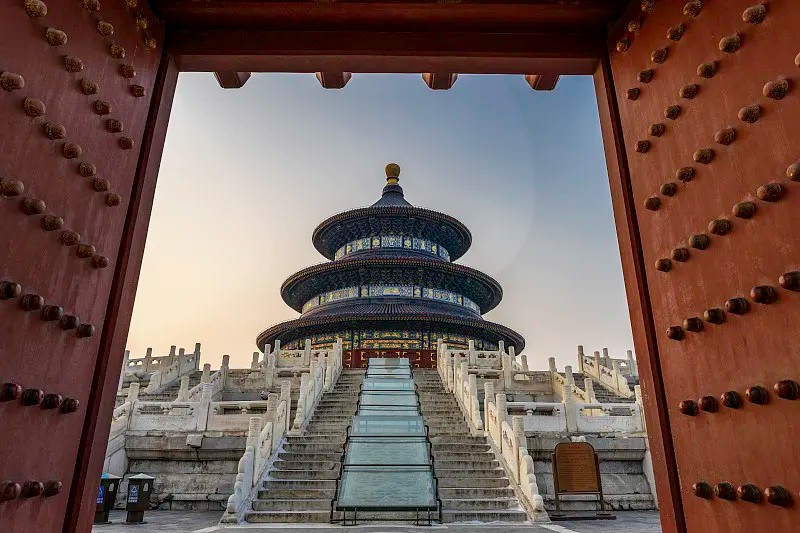Heaven: (256, 161, 526, 371)
